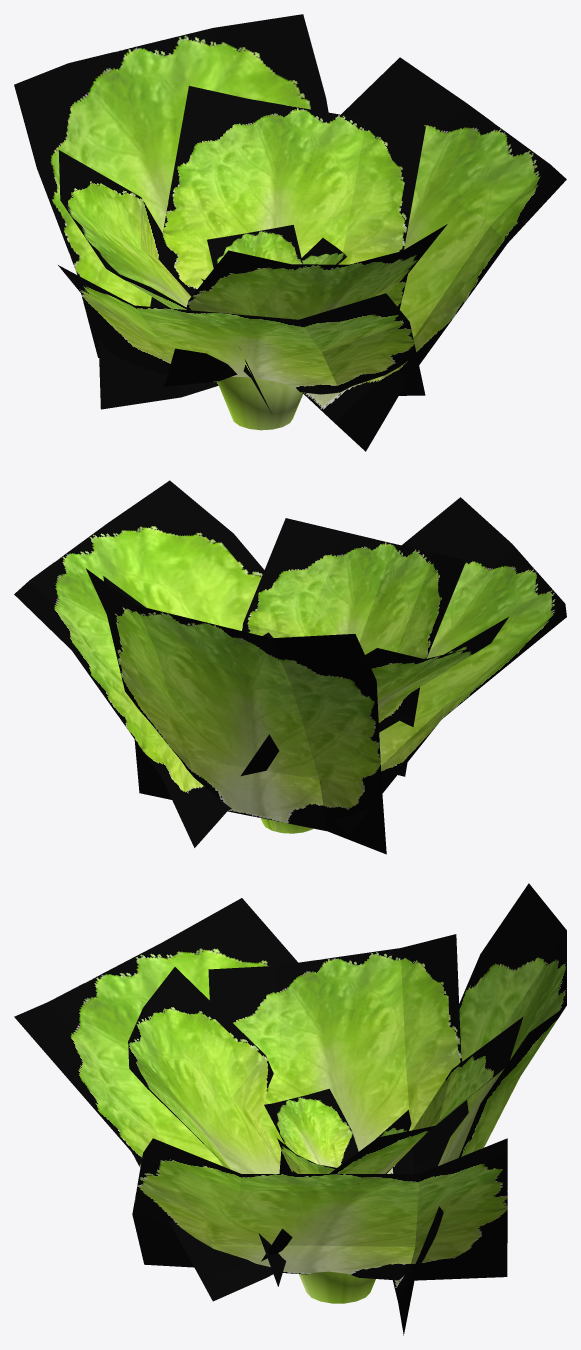
The model's file is FRM0110006.fbx.
3 views of the same model, one above another, from view 1: azimuth 30°, elevation 25°; view 2: azimuth 150°, elevation 25°; view 3: azimuth 270°, elevation 25° (orthographic). The views are drawn at different scales.
Parts seen in each view (by area): view 1: smFRM0110006; view 2: smFRM0110006; view 3: smFRM0110006.
Boxes of the visible parts, x1,y1,x2,y2 form: smFRM0110006: (14, 14, 566, 451); smFRM0110006: (14, 480, 566, 854); smFRM0110006: (14, 883, 566, 1335).
Size of the model in its own units: 34.07 by 20.2 by 31.19.
1 material, 1 textured.
